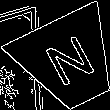N_SE: (38, 30, 100, 94)
